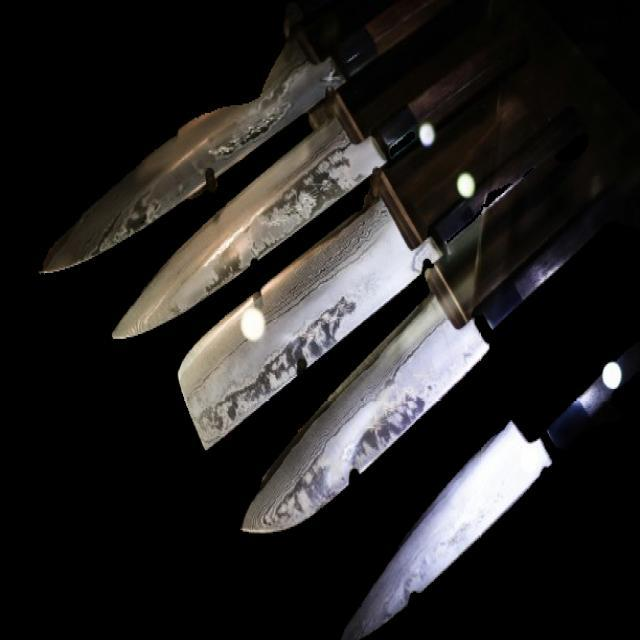knife: (176, 3, 639, 461), (241, 80, 639, 540), (108, 9, 594, 339), (36, 2, 465, 276), (339, 345, 639, 638)
